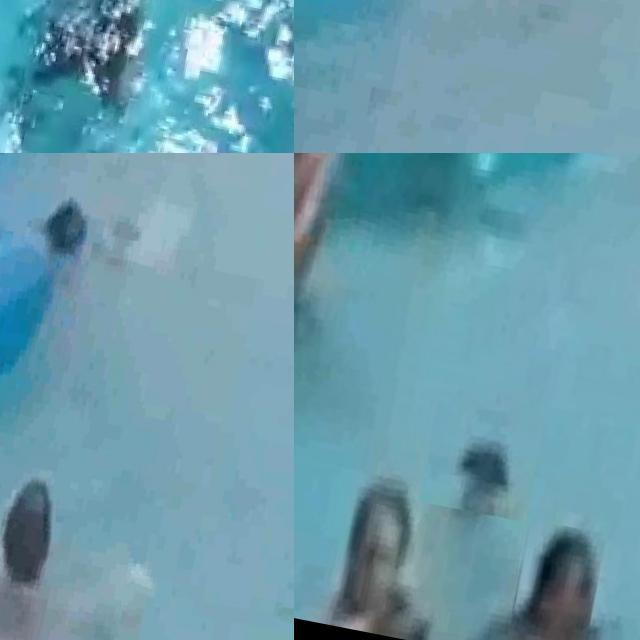drowning: (11, 153, 244, 310), (0, 0, 168, 153), (419, 394, 548, 524), (426, 0, 640, 64)
swimming: (0, 439, 184, 640), (294, 153, 375, 356), (505, 506, 611, 640), (332, 495, 424, 638)
